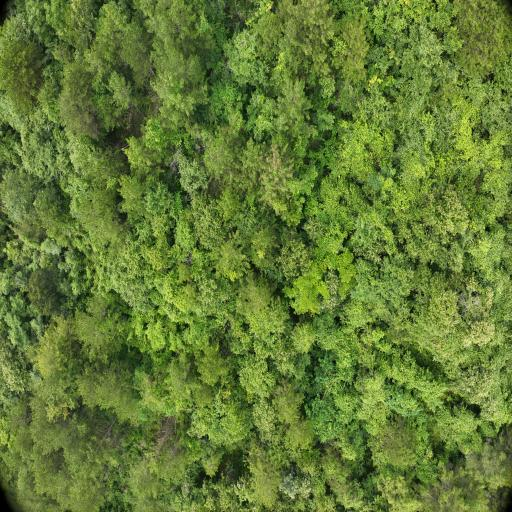dead-tree: (161, 418, 177, 450)
